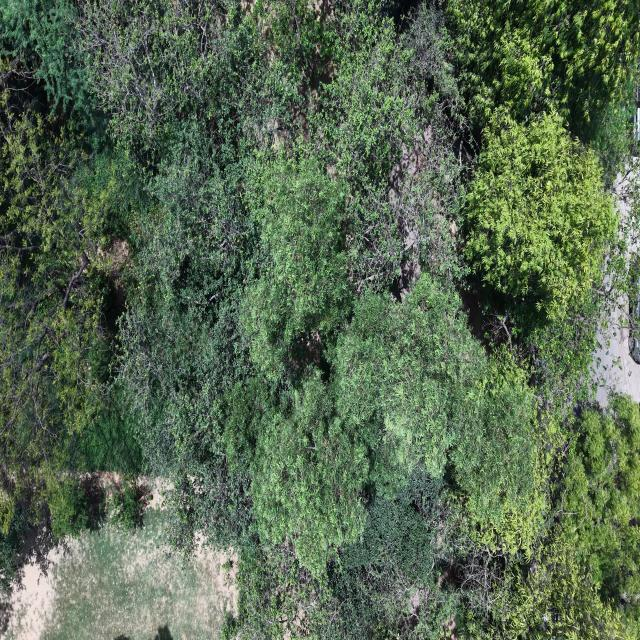DRY_AREA: (594, 299, 639, 405)
VEGETATION_TREE: (0, 0, 639, 639), (465, 109, 617, 319), (445, 0, 639, 139)
WATERBODY: (3, 510, 236, 639)
